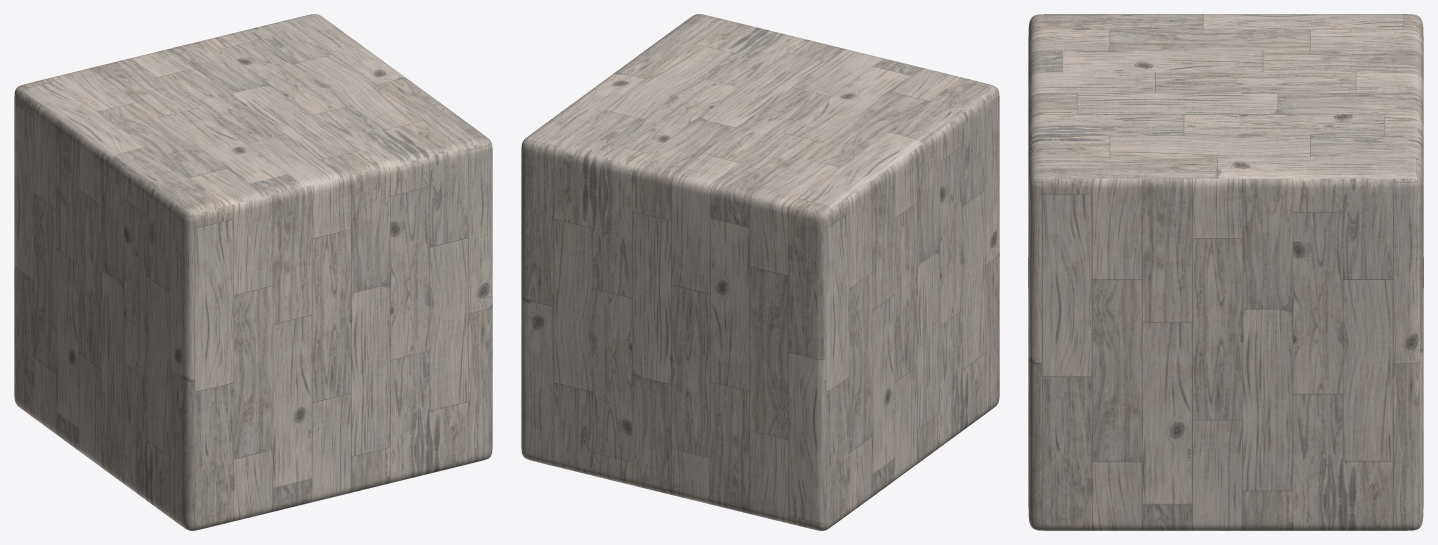
3 renders of one model, left to right at view 1: azimuth 30°, elevation 25°; view 2: azimuth 150°, elevation 25°; view 3: azimuth 270°, elevation 25°, orthographic. The views are drawn at different scales.
Visible parts, largest first — view 1: Cube; view 2: Cube; view 3: Cube.
Part boxes in pixels (x1=…): Cube: x1=14, y1=14, x2=492, y2=530; Cube: x1=521, y1=14, x2=999, y2=530; Cube: x1=1028, y1=14, x2=1423, y2=530.
Bounding box in the file's own units: 200 × 200 × 200.
Materials: 1 (1 with a texture image).
